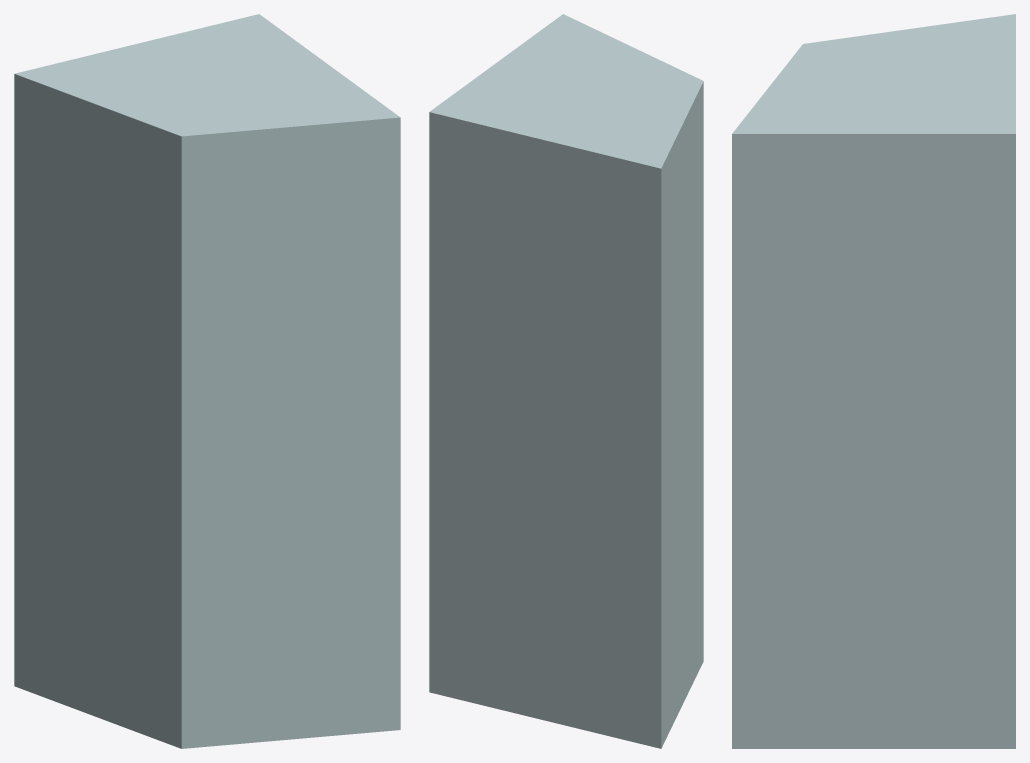
The picture shows the model from 3 angles, left to right: view 1: azimuth 30°, elevation 25°; view 2: azimuth 150°, elevation 25°; view 3: azimuth 270°, elevation 25°; orthographic projection. The views are drawn at different scales.
Visible parts, largest first — view 1: cliff_cornerLarge_stone; view 2: cliff_cornerLarge_stone; view 3: cliff_cornerLarge_stone.
Part boxes in pixels (x1,y1,x2,y2): cliff_cornerLarge_stone: (14, 14, 400, 748); cliff_cornerLarge_stone: (429, 14, 703, 748); cliff_cornerLarge_stone: (732, 14, 1015, 748).
Bounding box in the file's own units: 0.4185 × 1 × 0.4185.
